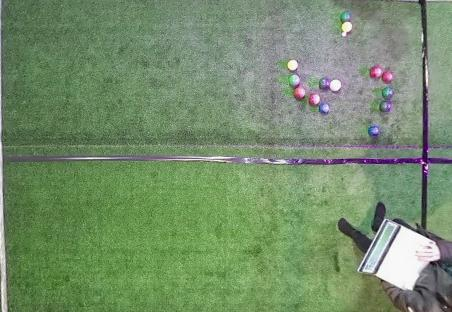blue: (368, 125, 379, 136), (319, 103, 330, 114)
green: (382, 87, 394, 98), (288, 75, 300, 85), (319, 78, 329, 89), (380, 101, 391, 111), (340, 11, 351, 21)
red: (370, 66, 382, 78), (294, 86, 305, 99), (330, 79, 341, 91), (382, 71, 393, 82), (309, 94, 320, 105)
vline: (420, 1, 451, 227), (0, 1, 11, 311)
white: (342, 32, 347, 37)
yellow: (288, 60, 298, 70), (342, 22, 352, 32)
